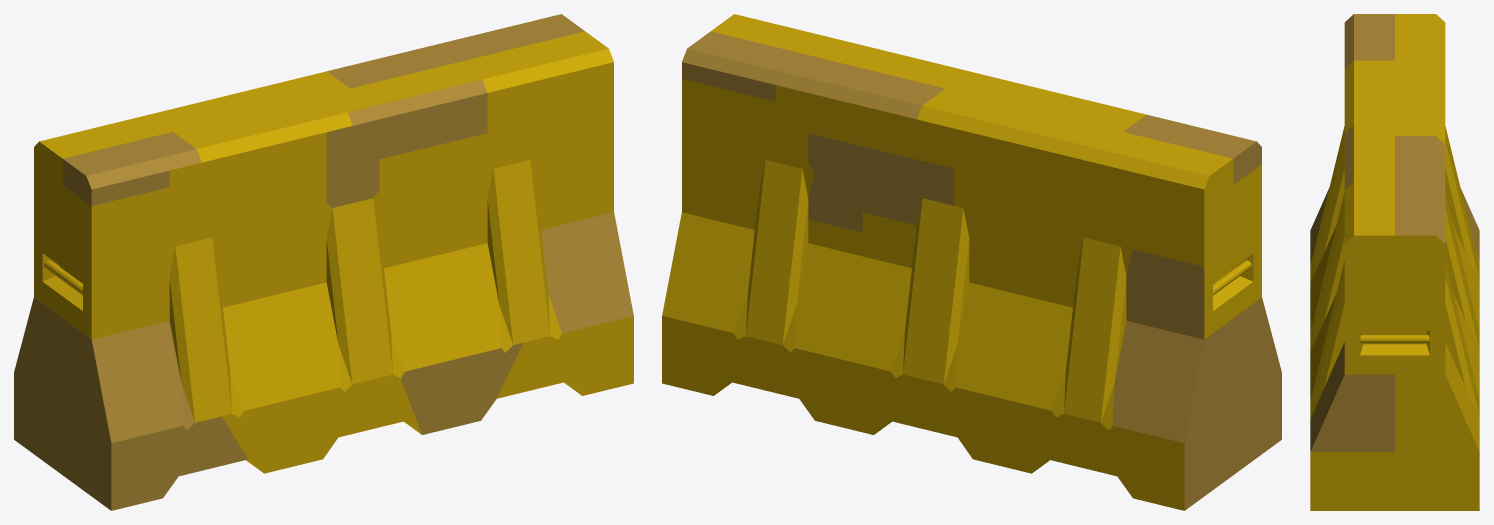
The model's file is prop_plastic_barrier.glb.
3 views of the same model, side by side, from view 1: azimuth 30°, elevation 25°; view 2: azimuth 150°, elevation 25°; view 3: azimuth 270°, elevation 25° (orthographic). The views are drawn at different scales.
Visible parts, largest first — view 1: PlasticBarrier; view 2: PlasticBarrier; view 3: PlasticBarrier.
Boxes of the visible parts, <box> form: PlasticBarrier: <box>14,14,633,510</box>; PlasticBarrier: <box>662,14,1281,510</box>; PlasticBarrier: <box>1310,14,1479,510</box>.
Bounding box in the file's own units: 1.04 × 0.5995 × 0.3339.
Materials: 1 (1 with a texture image).
